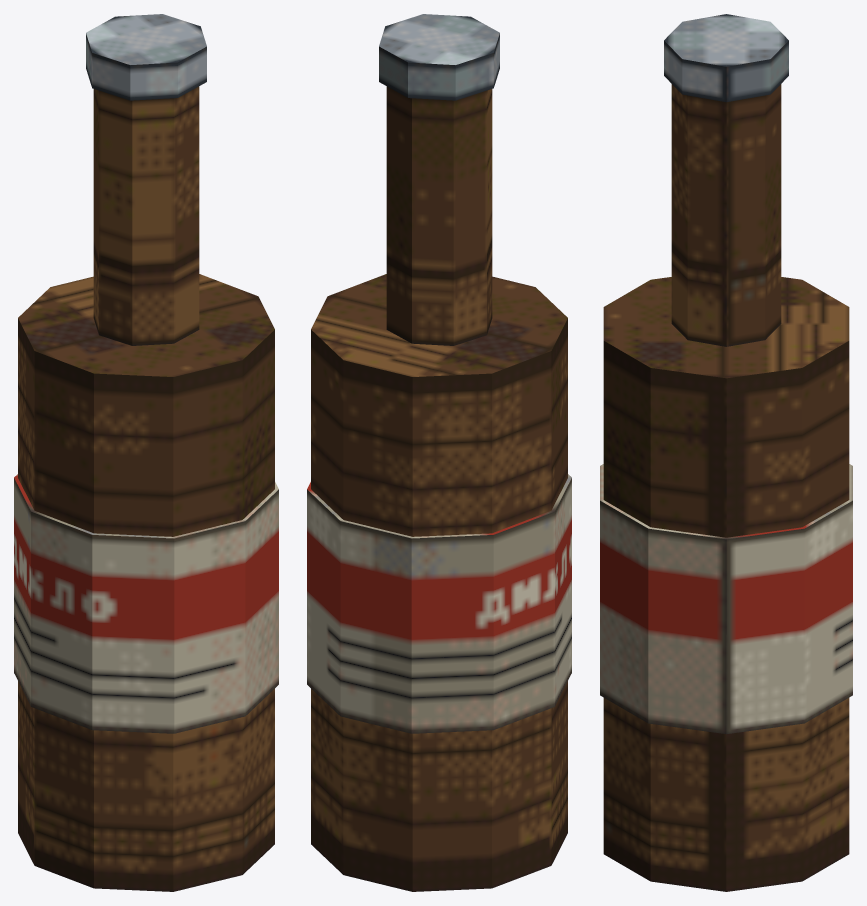
File: SM_Bottle_Beer_01.fbx
3 views of the same model, side by side, from view 1: azimuth 30°, elevation 25°; view 2: azimuth 150°, elevation 25°; view 3: azimuth 270°, elevation 25° (orthographic).
Parts seen in each view (by area): view 1: SM_Bottle_Beer_01; view 2: SM_Bottle_Beer_01; view 3: SM_Bottle_Beer_01.
Part boxes in pixels (x1,y1,x2,y2): SM_Bottle_Beer_01: (14,14,278,891); SM_Bottle_Beer_01: (307,14,571,891); SM_Bottle_Beer_01: (600,14,852,891).
Bounding box in the file's own units: 0.068 × 0.225 × 0.0647.
1 material, 1 textured.
